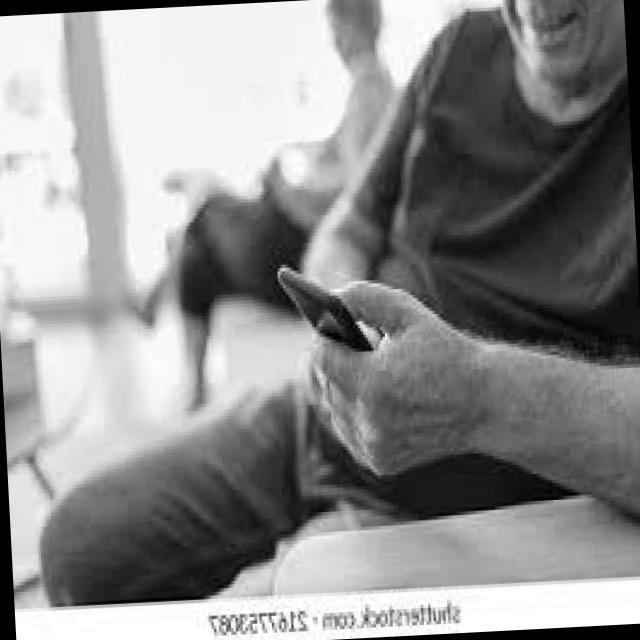phone: (277, 256, 376, 356)
